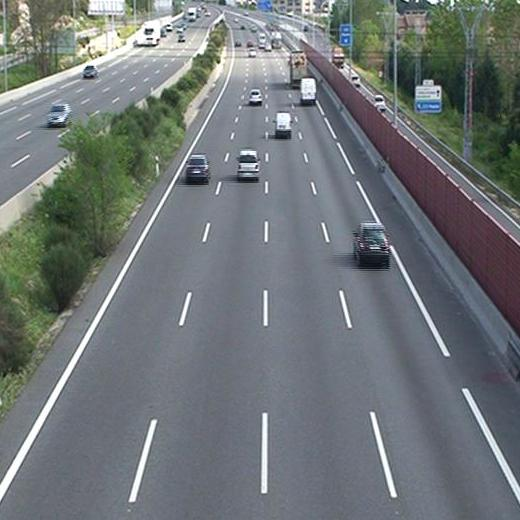car: (352, 223, 390, 269), (236, 149, 260, 181), (185, 155, 212, 183), (248, 90, 262, 106), (247, 48, 258, 58)
truck: (289, 50, 306, 85)
van: (276, 113, 294, 138), (301, 77, 316, 104)
